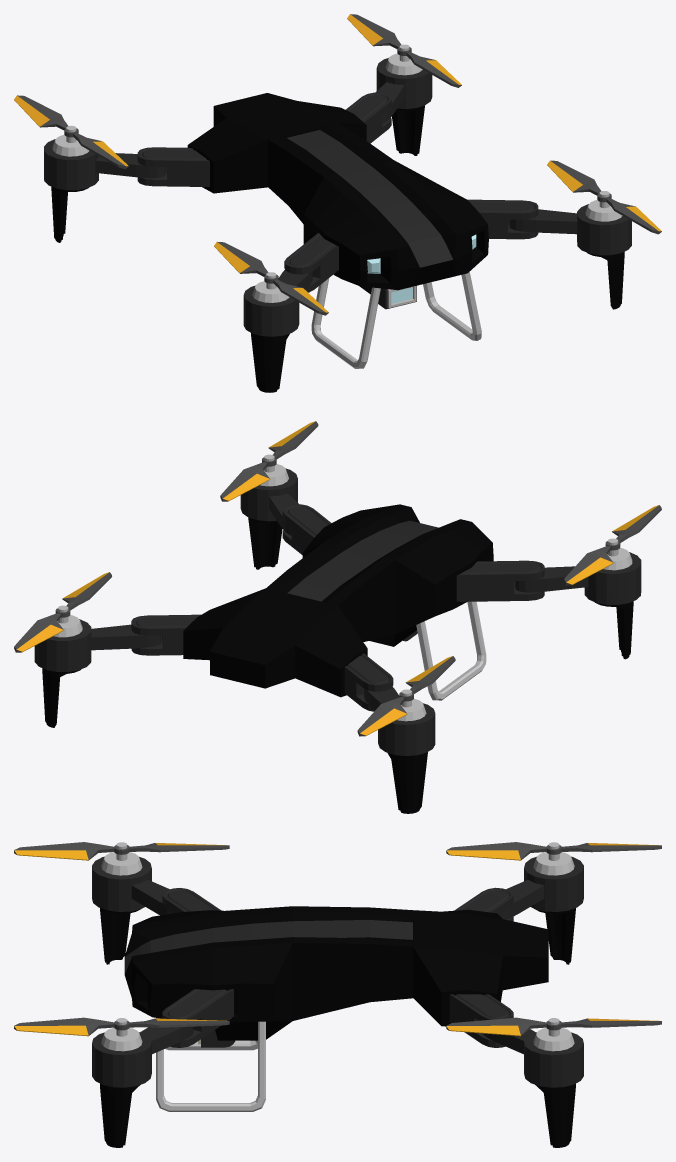
Rendered from drone.glb.
3 views of the same model, one above another, from view 1: azimuth 30°, elevation 25°; view 2: azimuth 150°, elevation 25°; view 3: azimuth 270°, elevation 25° (orthographic). The views are drawn at different scales.
Parts seen in each view (by area): view 1: Body; view 2: Body; view 3: Body.
Boxes of the visible parts, box(x1,y1,x2,y2) form: Body: box(14, 14, 661, 392); Body: box(14, 421, 661, 813); Body: box(14, 842, 661, 1147).
Size of the model in its own units: 0.5735 by 0.2076 by 0.7813.
1 material, 1 textured.
